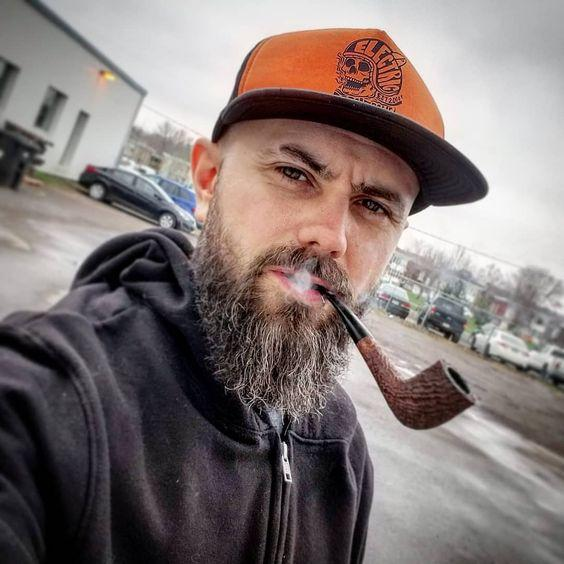trubka: (314, 285, 473, 429)
